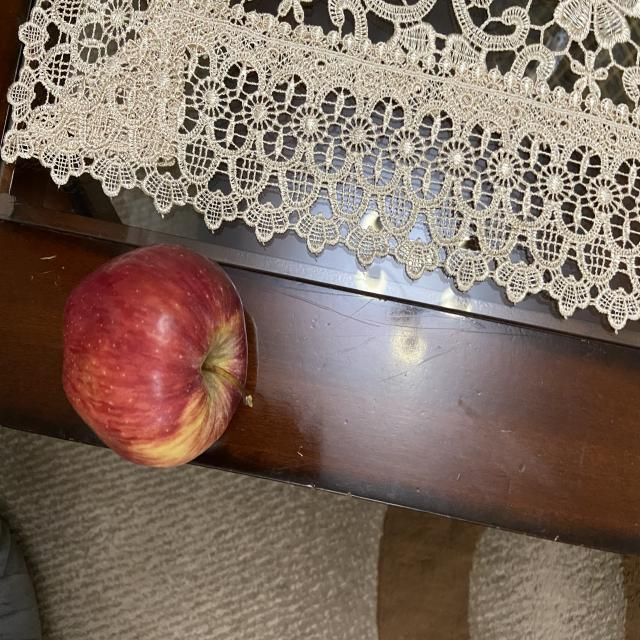apple: (56, 242, 264, 473)
